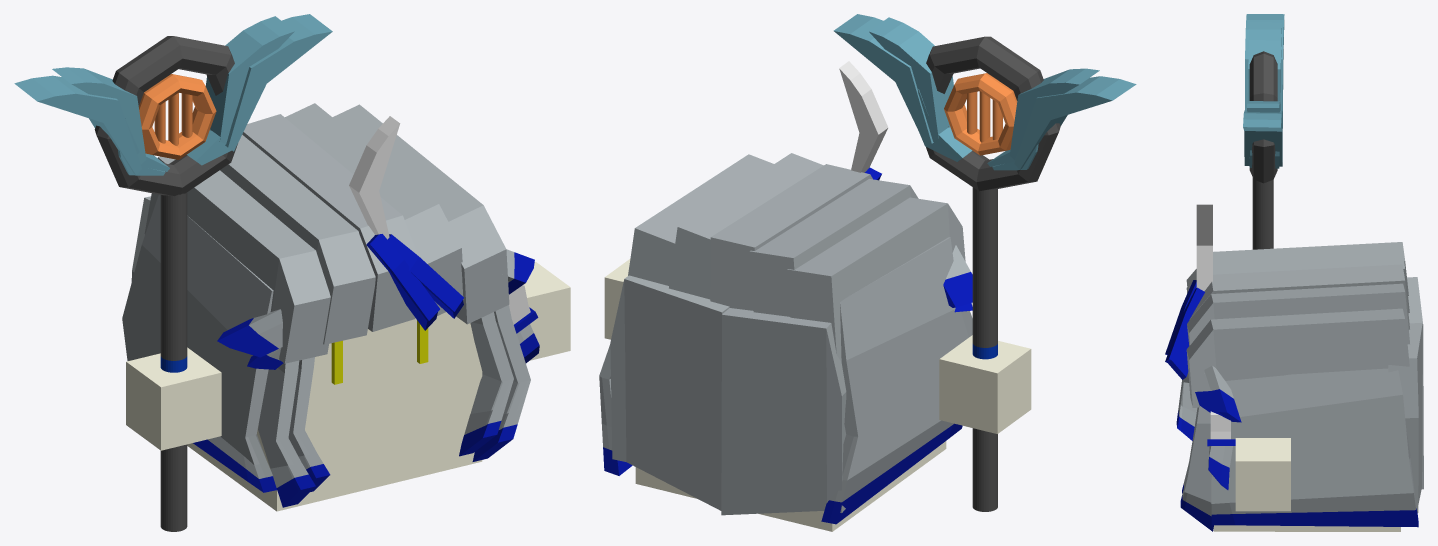
File: Rapca_Select.fbx
The picture shows the model from 3 angles, left to right: view 1: azimuth 30°, elevation 25°; view 2: azimuth 150°, elevation 25°; view 3: azimuth 270°, elevation 25°; orthographic projection. The views are drawn at different scales.
Parts seen in each view (by area): view 1: Cube, Cube.028, Cube.009, Cube.006, Cube.005, Cube.008, Cube.004, Torus, Cylinder, Cube.007, Cube.019, Cube.018 (+13 smaller); view 2: Cube.030, Cube.028, Cube.029, Cube.009, Cube.008, Cube.006, Cube.004, Torus, Cylinder, Cube.007, Cube.005, Cube.026 (+10 smaller); view 3: Cube.027, Cube.005, Cube.007, Cube.003, Cube.008, Cube.006, Cube.029, Cube.014, Torus, Cube.009, Cube.010, Cylinder (+12 smaller).
Part boxes in pixels (left/top/right/bottom): Cube: left=187, top=312, right=482, bottom=511; Cube.028: left=122, top=194, right=276, bottom=492; Cube.009: left=144, top=156, right=330, bottom=363; Cube.006: left=220, top=134, right=375, bottom=344; Cube.005: left=332, top=104, right=509, bottom=324; Cube.008: left=242, top=114, right=418, bottom=331; Cube.004: left=126, top=347, right=221, bottom=450; Torus: left=94, top=36, right=237, bottom=196; Cylinder: left=160, top=192, right=187, bottom=531; Cube.007: left=285, top=103, right=463, bottom=315; Cube.019: left=258, top=360, right=315, bottom=507; Cube.018: left=459, top=312, right=513, bottom=456; Cube.030: left=721, top=308, right=846, bottom=515; Cube.028: left=821, top=237, right=968, bottom=524; Cube.029: left=610, top=275, right=729, bottom=510; Cube.009: left=787, top=197, right=965, bottom=361; Cube.008: left=710, top=164, right=872, bottom=310; Cube.006: left=749, top=179, right=918, bottom=316; Cube.004: left=939, top=335, right=1031, bottom=433; Torus: left=926, top=36, right=1060, bottom=191; Cylinder: left=972, top=187, right=997, bottom=511; Cube.007: left=669, top=153, right=823, bottom=299; Cube.005: left=628, top=154, right=773, bottom=285; Cube.026: left=869, top=17, right=953, bottom=140; Cube.027: left=1211, top=368, right=1418, bottom=527; Cube.005: left=1186, top=308, right=1409, bottom=407; Cube.007: left=1187, top=283, right=1409, bottom=345; Cube.003: left=1235, top=438, right=1290, bottom=511; Cube.008: left=1189, top=264, right=1409, bottom=329; Cube.006: left=1186, top=249, right=1409, bottom=312; Cube.029: left=1388, top=323, right=1422, bottom=512; Cube.014: left=1180, top=405, right=1213, bottom=531; Torus: left=1249, top=51, right=1277, bottom=183; Cube.009: left=1186, top=242, right=1408, bottom=295; Cube.010: left=1192, top=365, right=1241, bottom=422; Cylinder: left=1252, top=177, right=1273, bottom=249.
Bounding box in the file's own units: 513 × 277 × 456.
